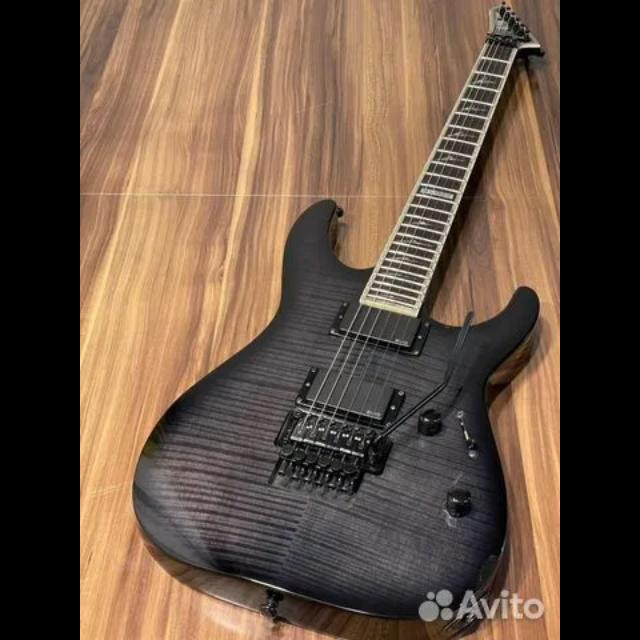Electric-Guitar: (133, 0, 543, 640)
